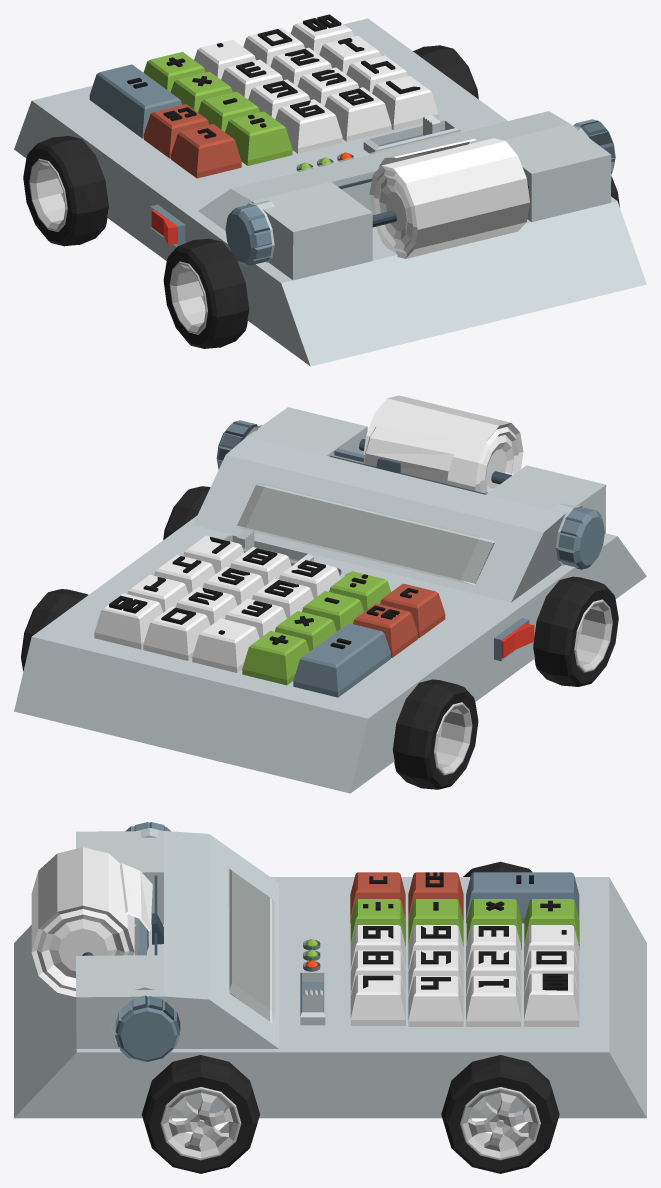
Rendered from modelCar.glb.
3 renders of one model, top to bottom at view 1: azimuth 30°, elevation 25°; view 2: azimuth 150°, elevation 25°; view 3: azimuth 270°, elevation 25°, orthographic. The views are drawn at different scales.
Visible parts, largest first — view 1: group1466548647, group48887536, group1325531539, Tire.003, Tire.004, group23065195, group389477461.003, group1297306164, group502161026, group1294525603, group595121944, group2058303266 (+18 smaller); view 2: group1466548647, group48887536, group127134564, Tire.004, Tire.003, group1325531539, group23065195, group1065846868, group2033548222, group454468518, group389477461.001, group595121944 (+20 smaller); view 3: group1466548647, group48887536, group1325531539, Tire.002, Tire.001, group127134564, group74567260, group23065195, group2033548222, group2058303266, group1587545857, group1296408862 (+17 smaller).
Boxes of the visible parts, x1,y1,x2,y2 form: group1466548647: (14,18,646,366); group48887536: (198,111,611,280); group1325531539: (369,138,529,258); Tire.003: (163,238,249,348); Tire.004: (23,136,108,246); group23065195: (89,64,181,138); group389477461.003: (171,124,241,178); group1297306164: (275,99,342,153); group502161026: (324,87,391,141); group1294525603: (225,111,292,165); group595121944: (225,204,272,267); group2058303266: (372,76,438,130); group1466548647: (14,516,646,793); group48887536: (193,407,606,602); group127134564: (235,483,494,585); Tire.004: (392,679,478,789); Tire.003: (533,576,618,686); group1325531539: (363,395,523,493); group23065195: (293,623,390,697); group1065846868: (363,426,462,483); group2033548222: (94,593,162,649); group454468518: (192,618,259,672); group389477461.001: (242,631,309,685); group595121944: (558,507,604,569); group1466548647: (14,877,646,1118); group48887536: (76,831,278,1048); group1325531539: (31,847,134,996); Tire.002: (141,1055,259,1173); Tire.001: (441,1055,559,1173); group127134564: (228,868,275,1022); group74567260: (115,995,180,1062); group23065195: (466,872,579,923); group2033548222: (524,973,579,1026); group2058303266: (350,975,405,1025); group1587545857: (408,976,463,1026); group1296408862: (466,976,521,1026).
Size of the model in its own units: 1.89 by 0.8131 by 2.38.
Materials: 30 (4 with a texture image).
